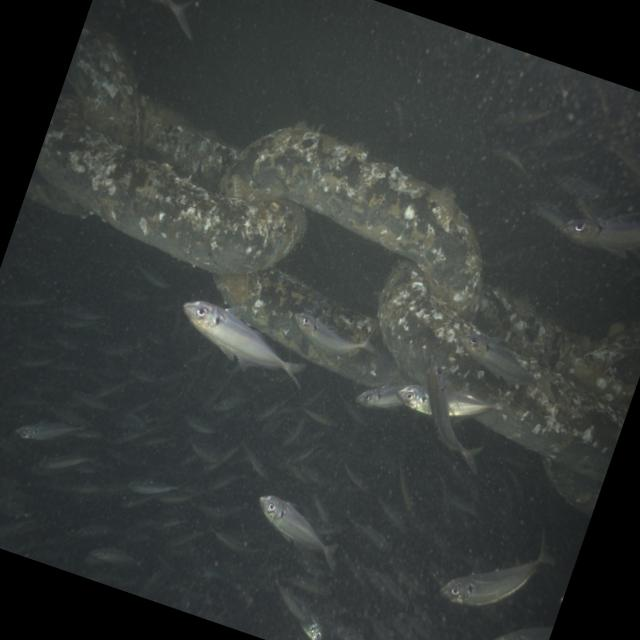ChainLink: (378, 261, 627, 479), (221, 126, 488, 318), (35, 97, 305, 273), (214, 267, 404, 387), (65, 23, 141, 146), (25, 168, 88, 216)
